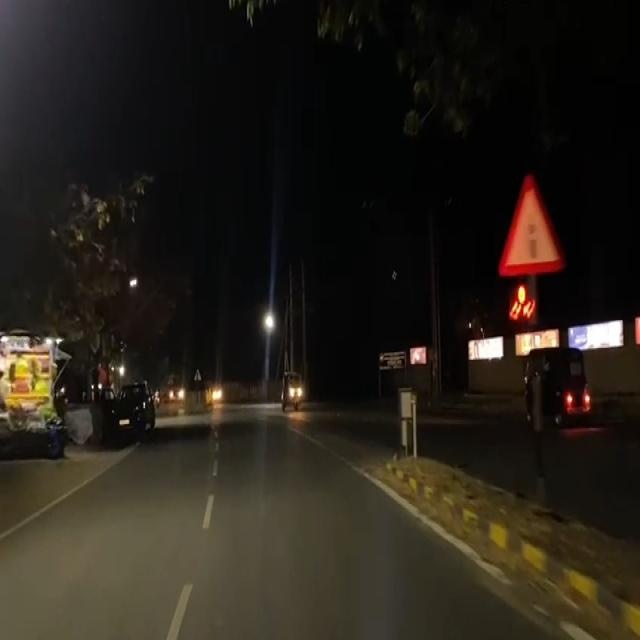bien_nguy_hiem: (497, 173, 566, 285)
